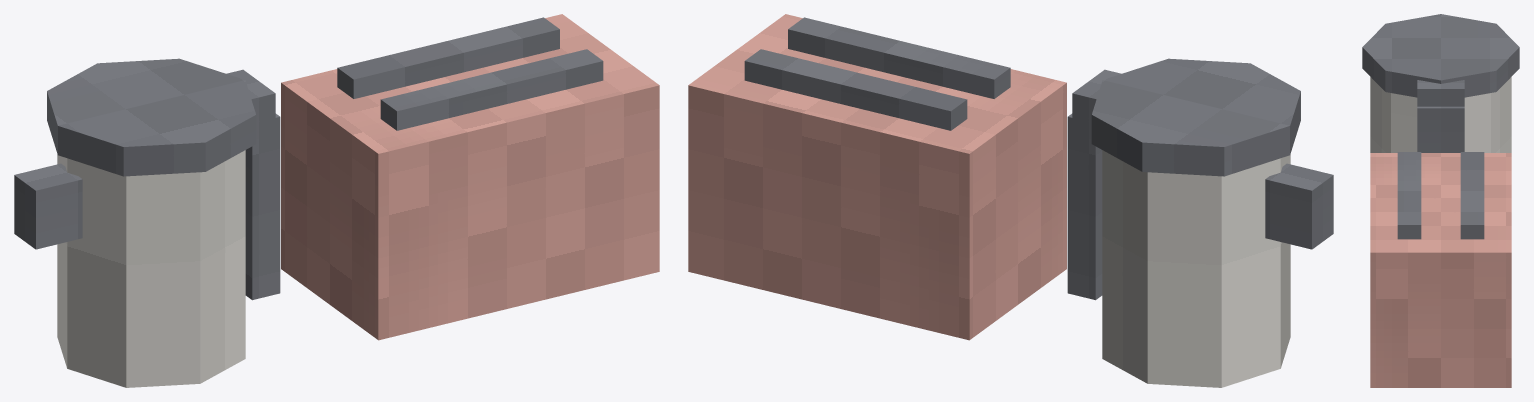
The model's file is pixel-modern-apartments-kettle-and-toaster-756870ce__29813.glb.
The picture shows the model from 3 angles, left to right: view 1: azimuth 30°, elevation 25°; view 2: azimuth 150°, elevation 25°; view 3: azimuth 270°, elevation 25°; orthographic projection. The views are drawn at different scales.
Parts seen in each view (by area): view 1: kettle-and-toaster; view 2: kettle-and-toaster; view 3: kettle-and-toaster.
Boxes of the visible parts, left/top/right/bottom form: kettle-and-toaster: left=14, top=14, right=659, bottom=387; kettle-and-toaster: left=688, top=14, right=1333, bottom=387; kettle-and-toaster: left=1362, top=14, right=1519, bottom=387.
Bounding box in the file's own units: 0.625 × 0.25 × 0.2.
Materials: 3 (3 with a texture image).
